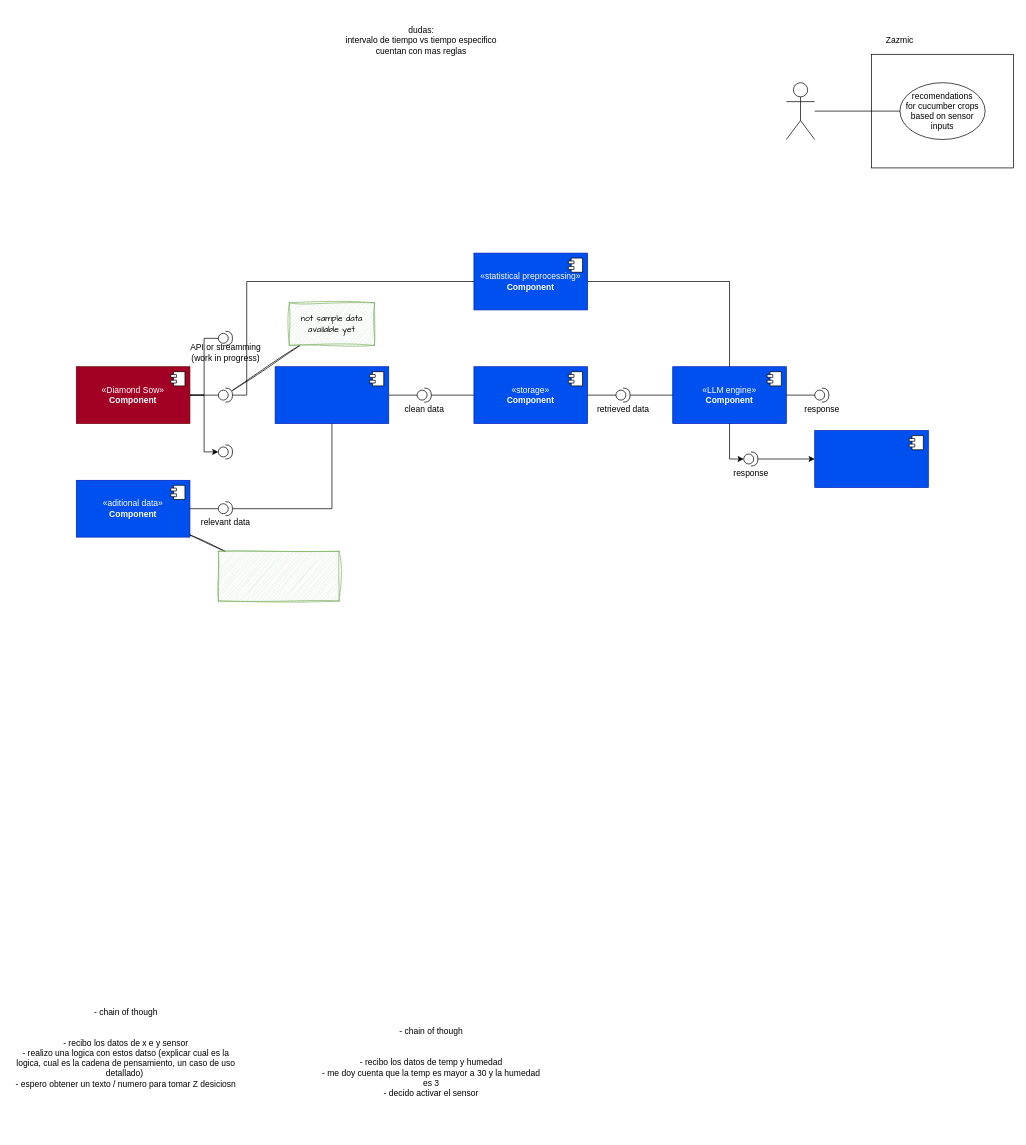
This 1026x1145 diagram has some shape labels left out. The shapes that lost their labels are listed below. From the top down, each one's centre as x and y in pixels, then its label:
At point (800, 111): "Actor".
At point (225, 394): "CSV (manual download)".
At point (331, 395): "«ingestion system» Component".
At point (225, 451): "client rules (ask for it)".
At point (871, 458): "«Notification system» Component".
At point (278, 576): "university papers client knowlege base manuales agronomos".
